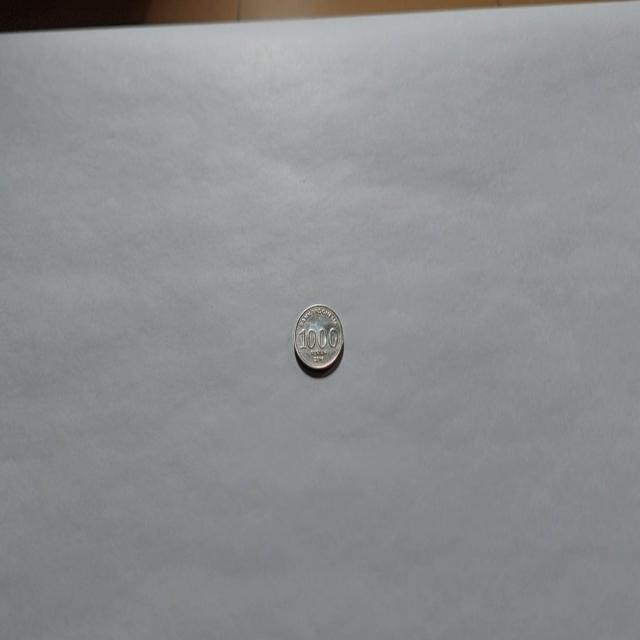seribu rupiah koin: (292, 302, 344, 374)
